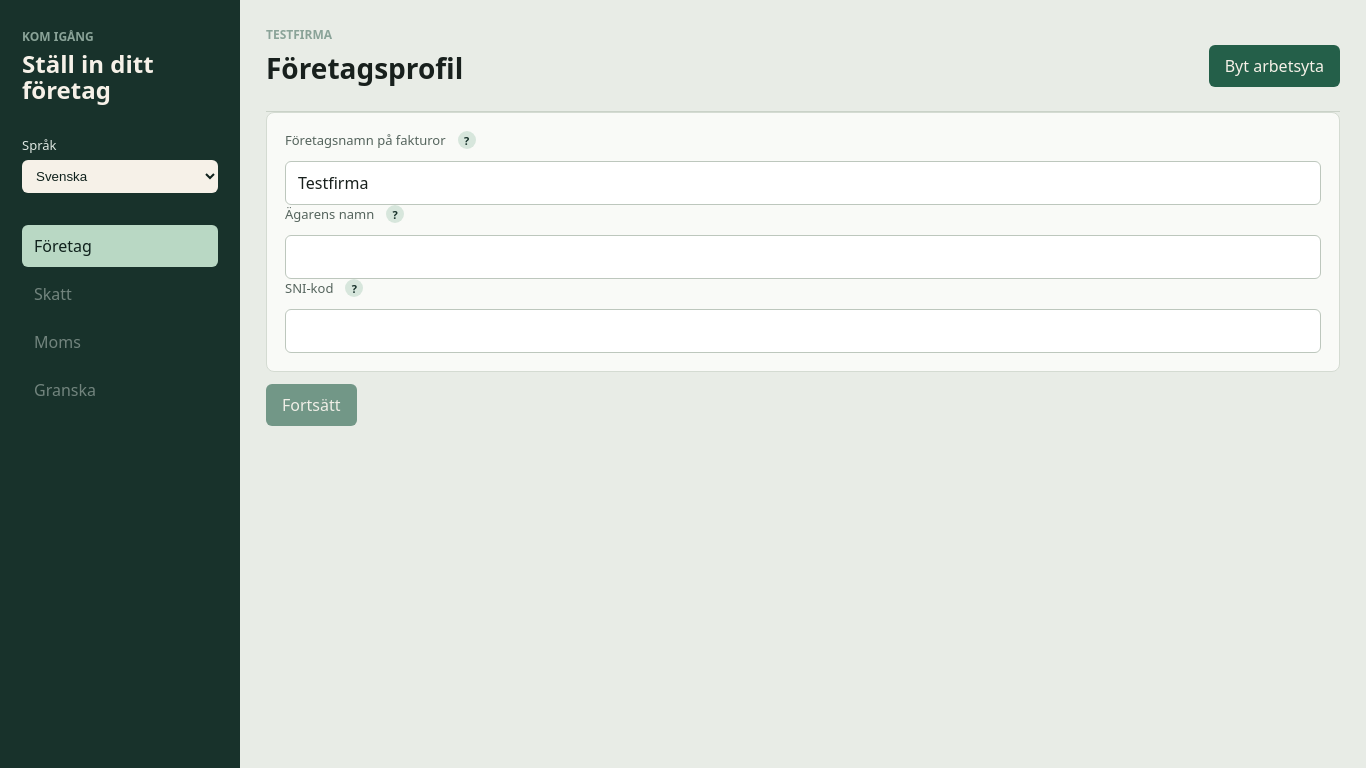
Scenario: OnboardingPage › explains F-skatt on invoices when FA-skatt is selected
In the field labelled "Företagsnamn på fakturor": (803, 183) [285, 161, 1321, 205], type "Test AB"
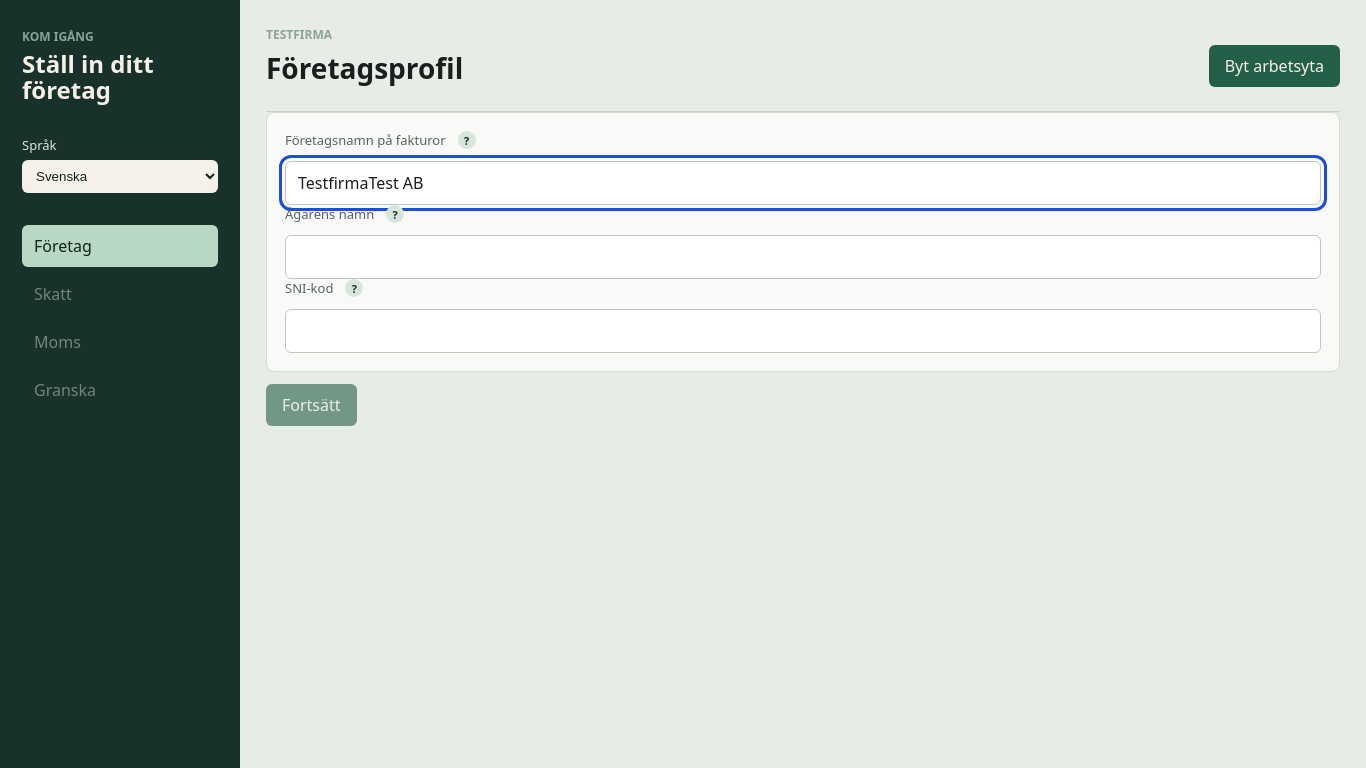
In the field labelled "Ägarens namn": (803, 257) [285, 235, 1321, 279], type "Anna"
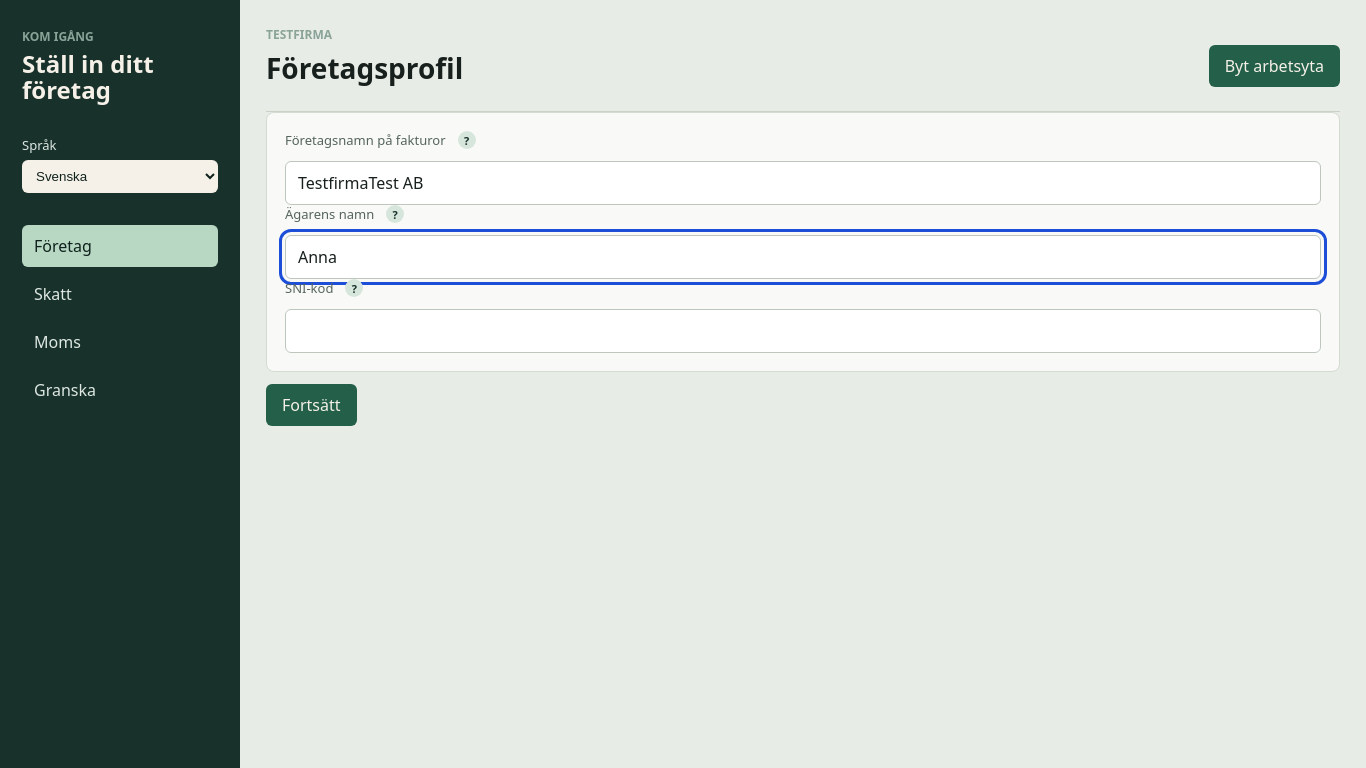
Click the button "Fortsätt": (311, 405) [266, 384, 357, 426]
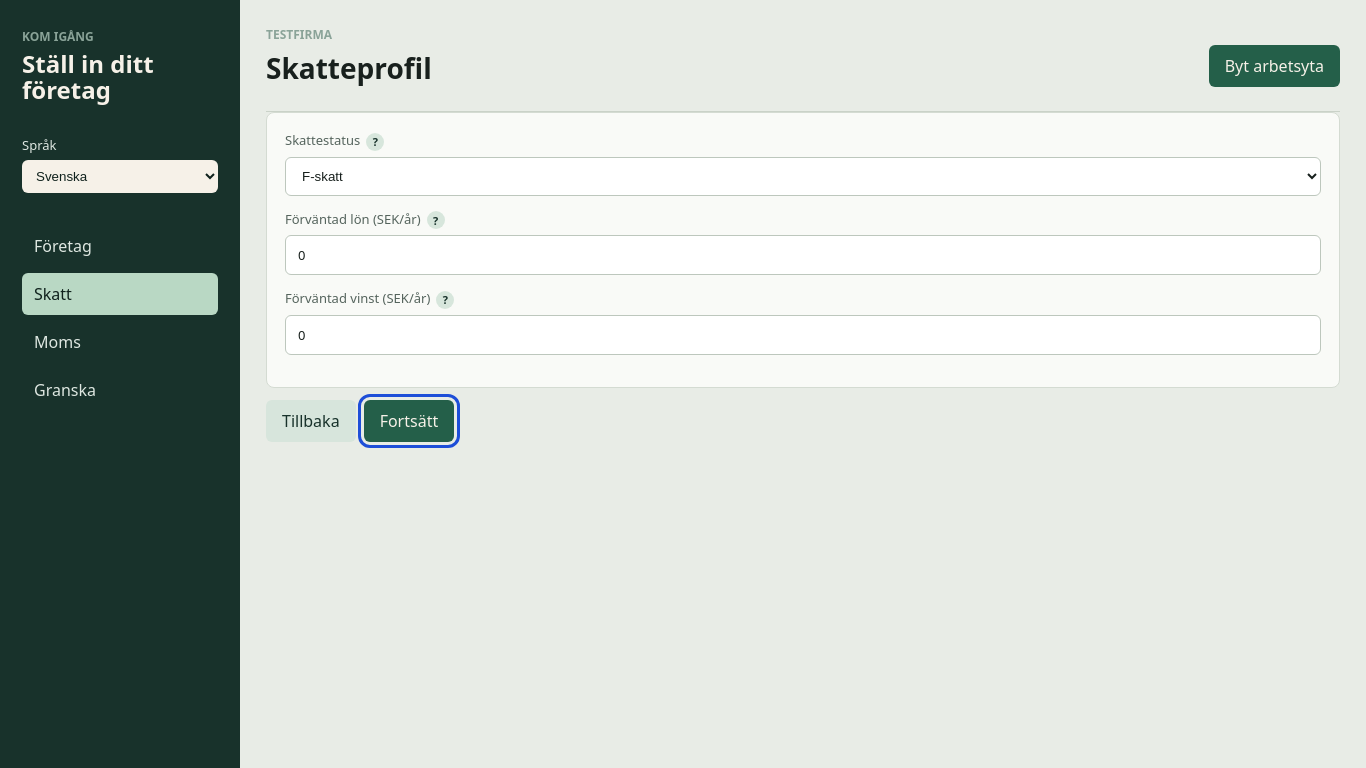
Select "FA-skatt" in the dropdown showing "F-skatt": (803, 176) [285, 156, 1321, 196]
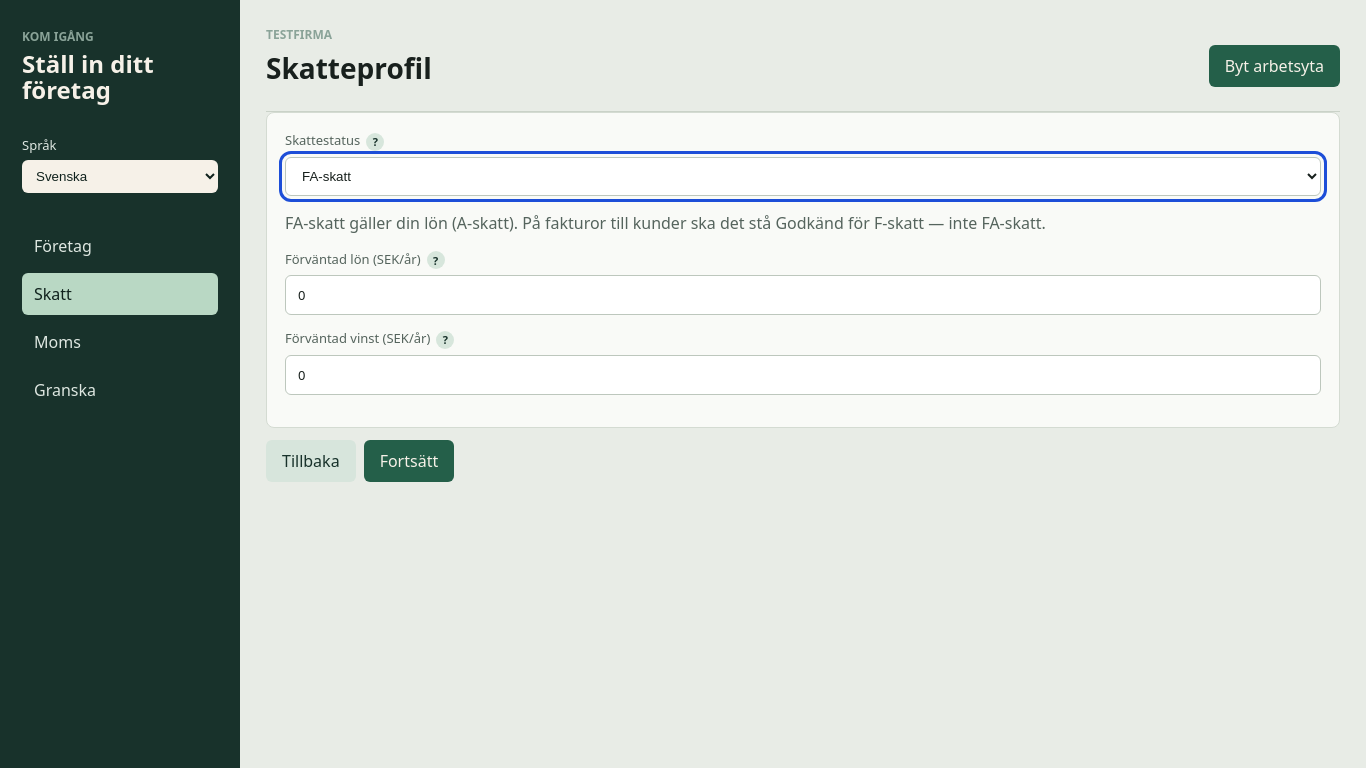
Check: the text "På fakturor till kunder ska det stå Godkänd för F-skatt" is shown, box [285, 212, 1046, 234]
